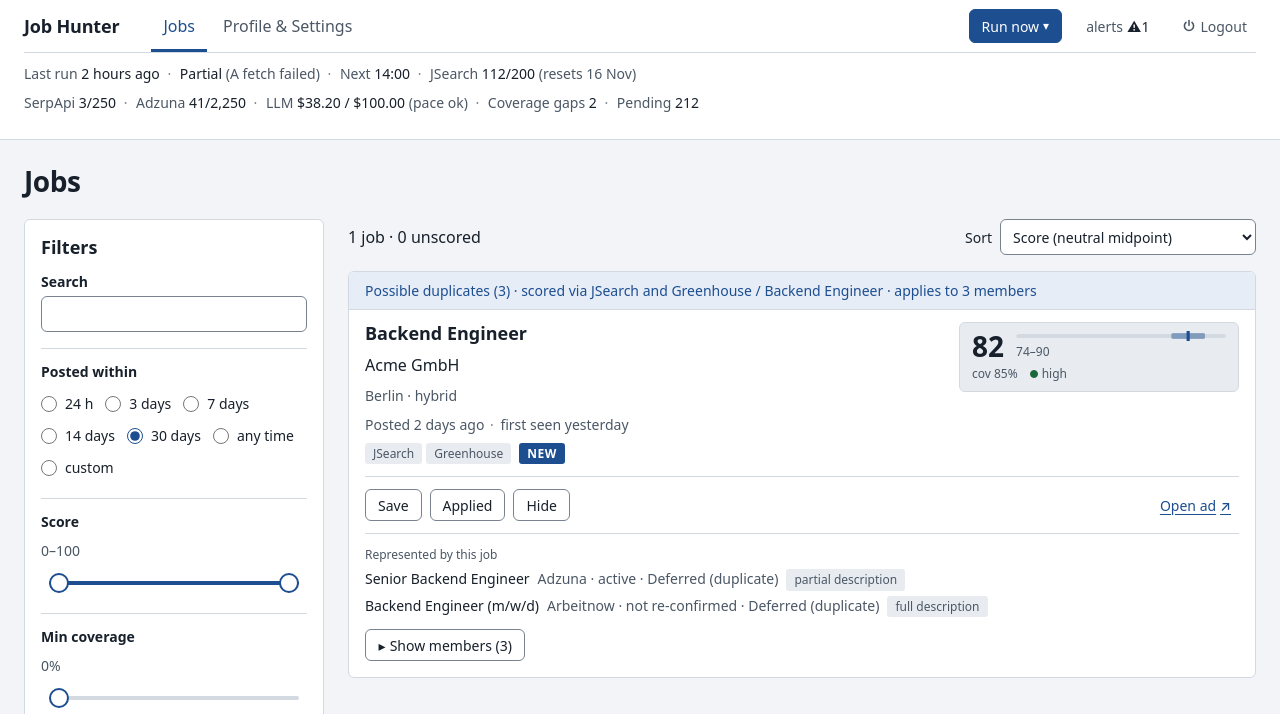
Test: GroupCard › expanding reads the representative's detail once and shares the drawer cache
The image size is (1280, 714).
Click the button "▸ Show members (3)": (445, 645) [365, 629, 525, 661]
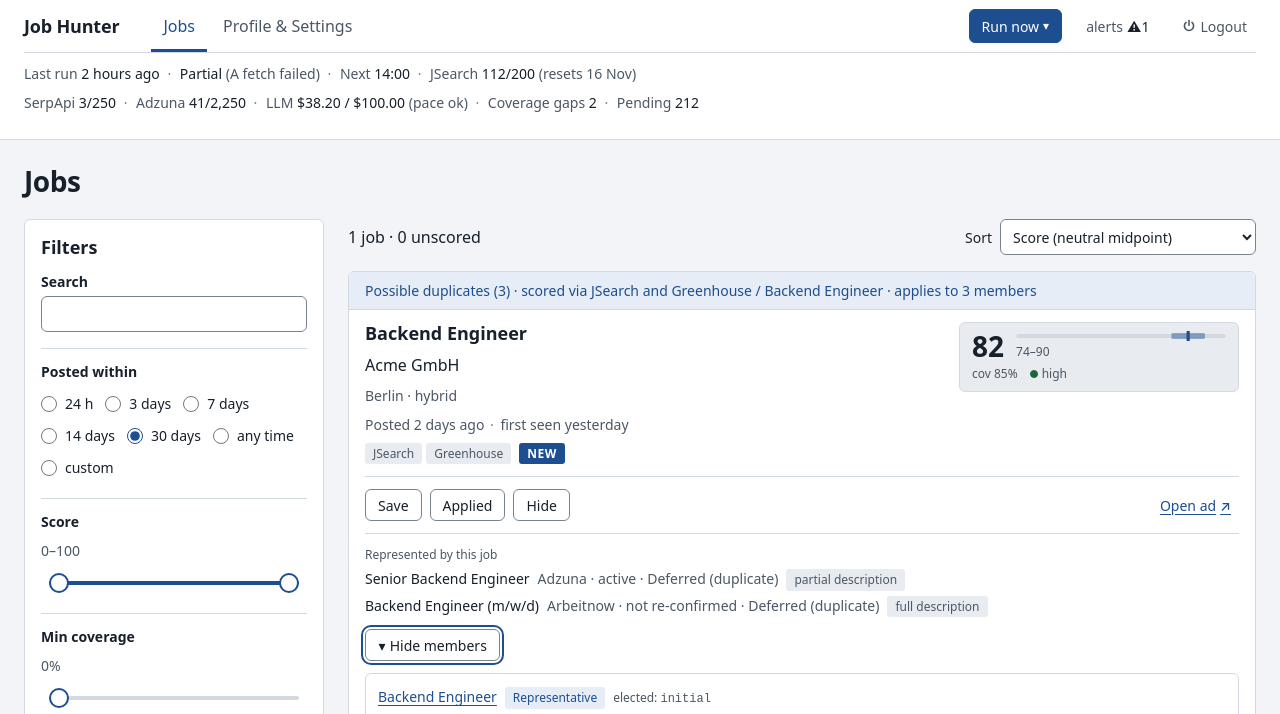
Note: collapsed and expanded again: nothing read again
Click the button "▾ Hide members": (432, 645) [365, 629, 500, 661]
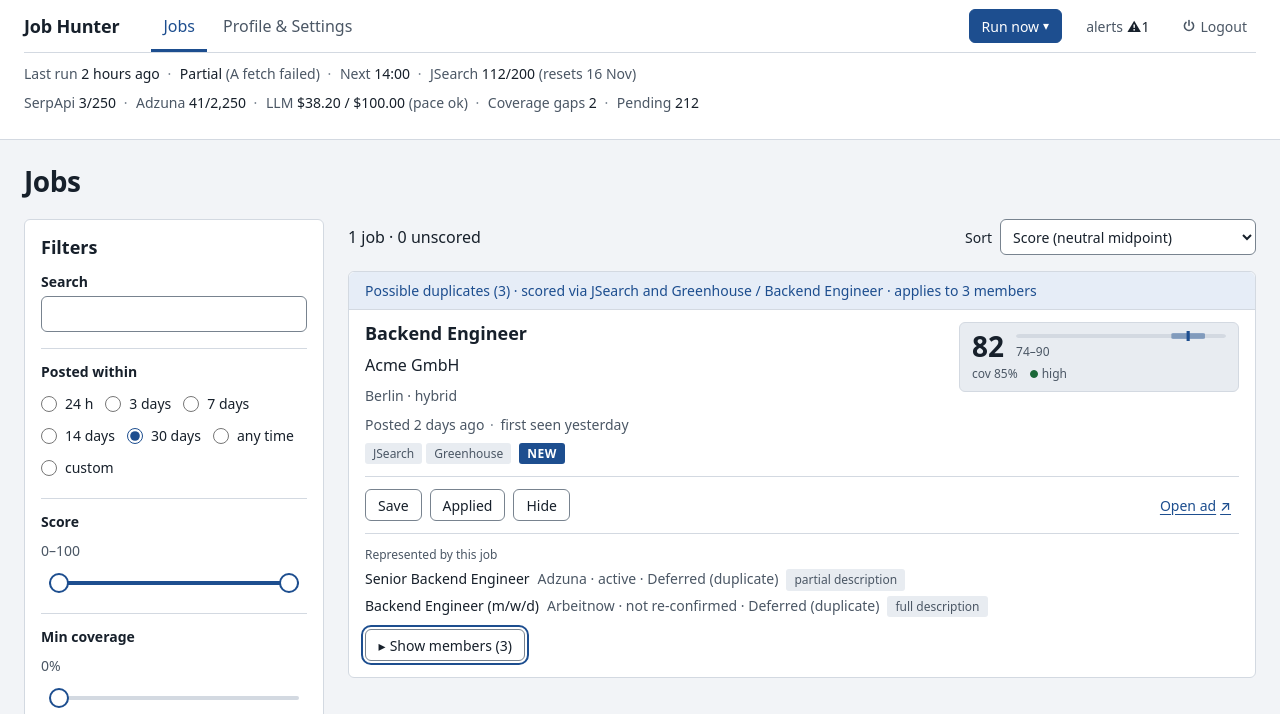
Result: the button named "Hide members" is collapsed
Click the button "▸ Show members (3)": (445, 645) [365, 629, 525, 661]
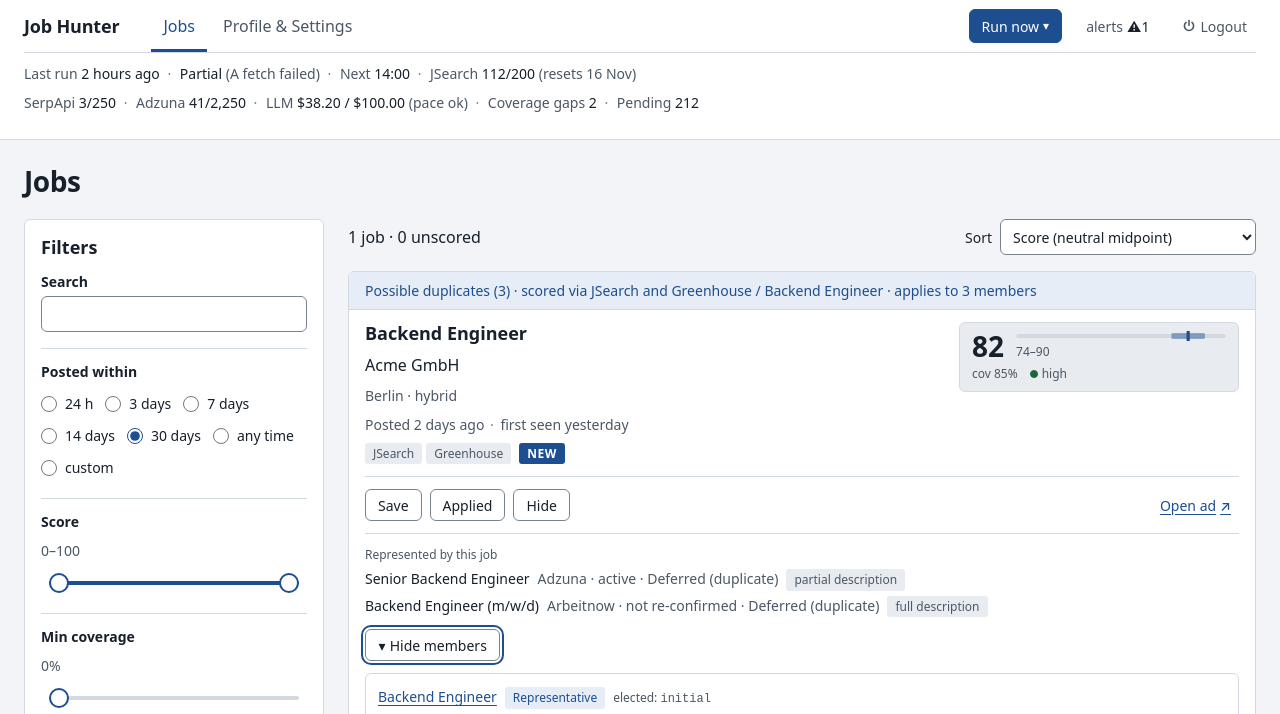
Click the link "Backend Engineer": (446, 333) [365, 321, 527, 345]
(page scrolled)
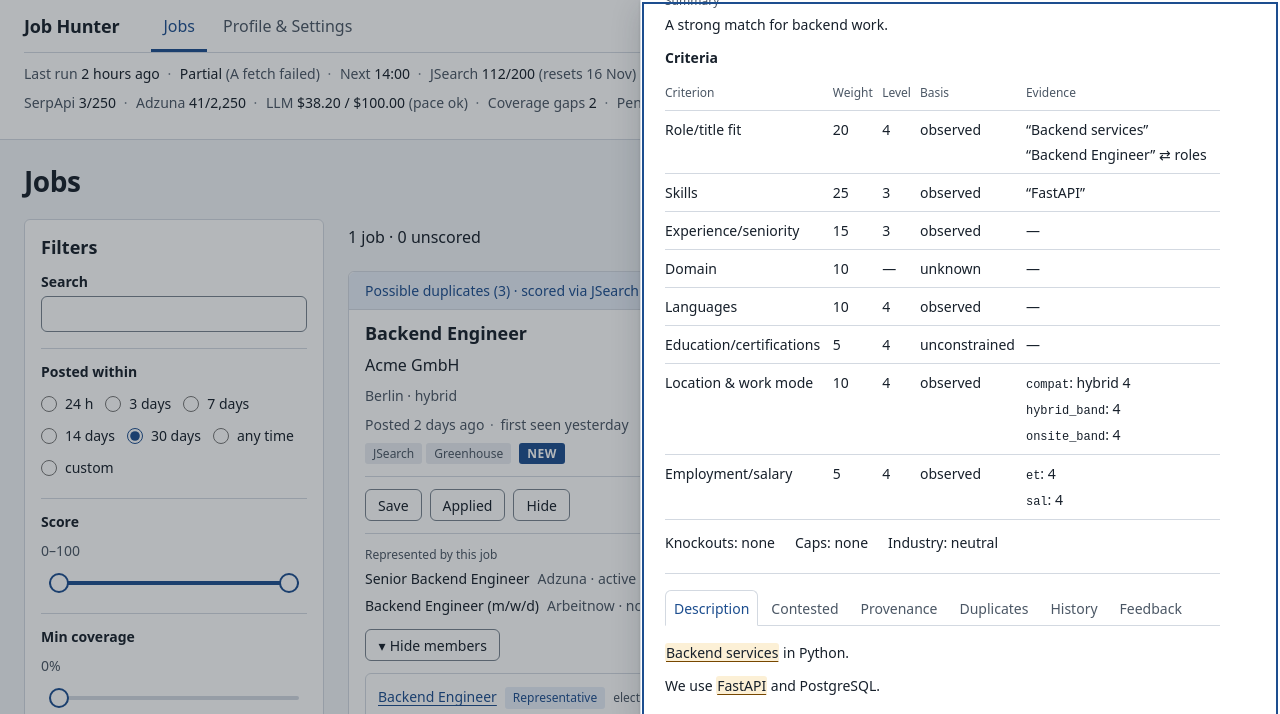
Result: the tab "Duplicates" is shown at [950, 590, 1037, 626]
